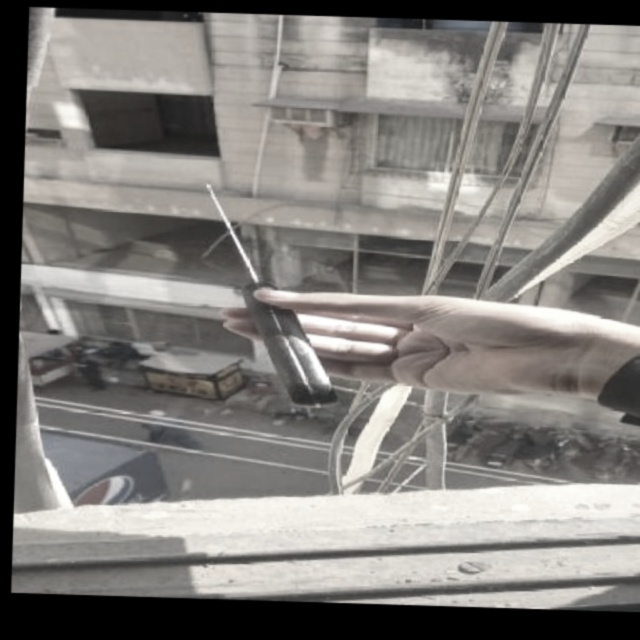Sharp-Object: (202, 185, 344, 407)
